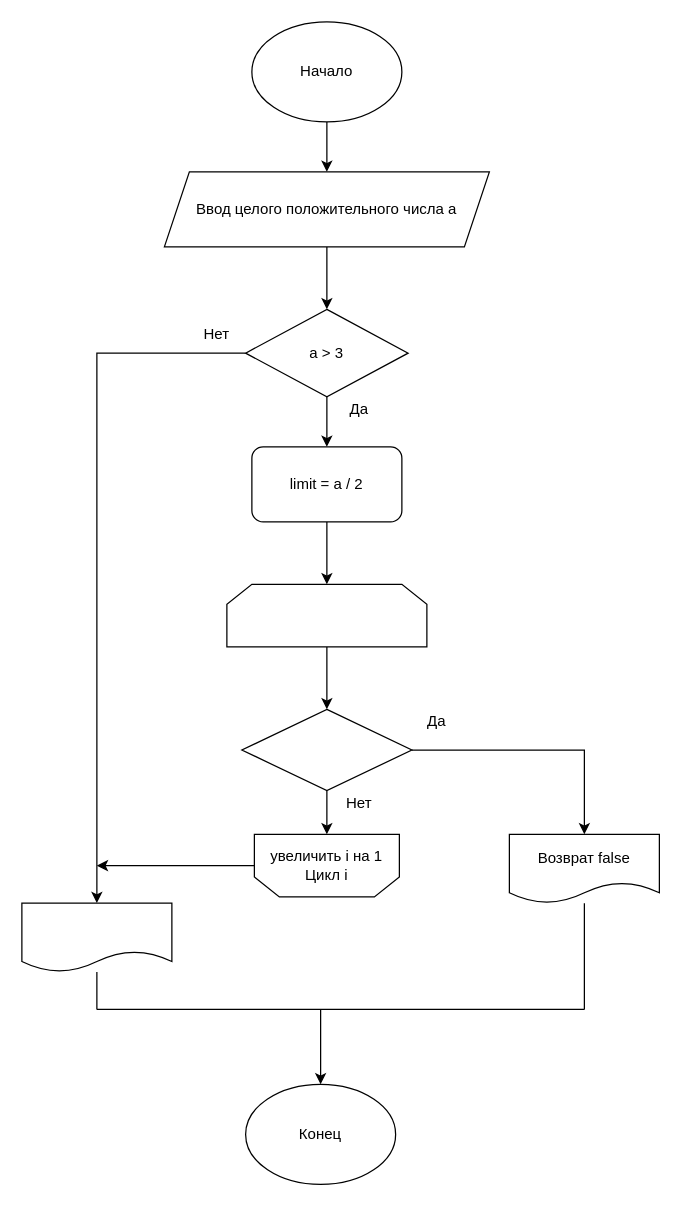
This 681x1206 diagram has some shape labels left out. Each missing label, with the centre of its shape:
num % i == 0: point 326,749
Возврат true: point 96,937
Цикл i от 2 до limit включительно: point 326,615
